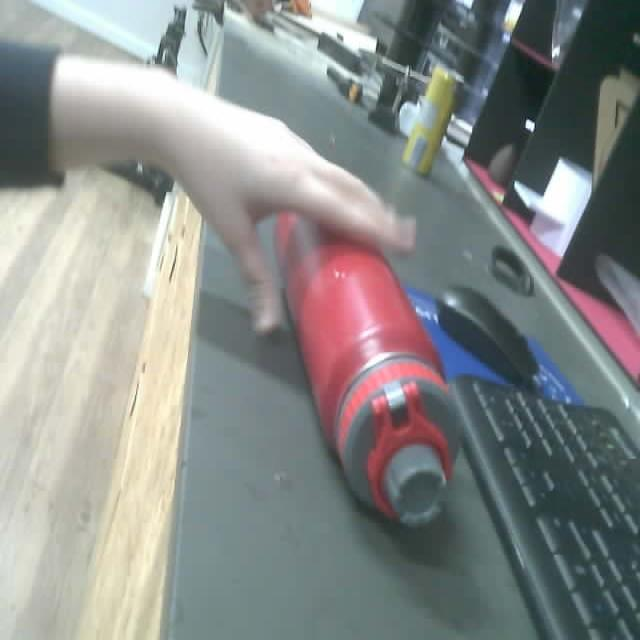water bottle: (264, 200, 459, 524)
